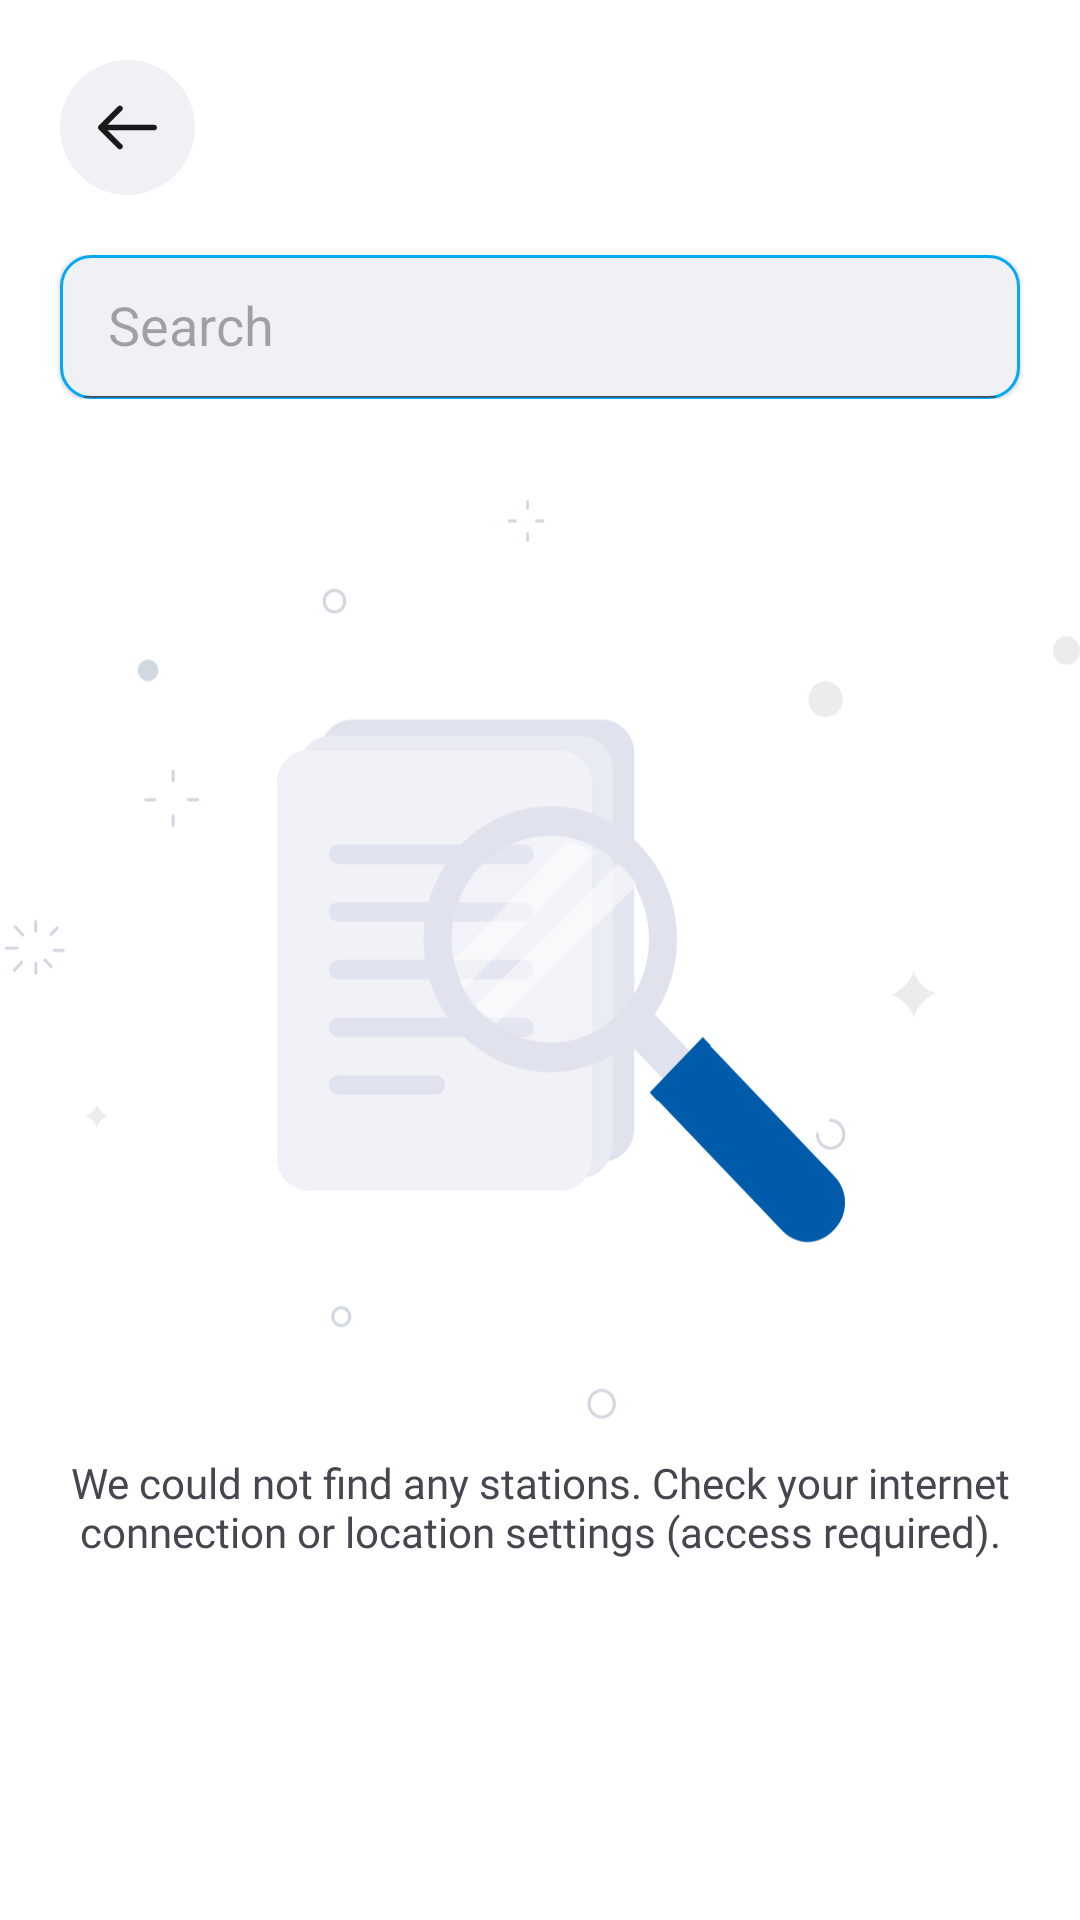

Screen size 1080 × 1920. Icon name, then its box in pixels as (x1, y1, x2, y2):
left back: (60, 60, 195, 195)
